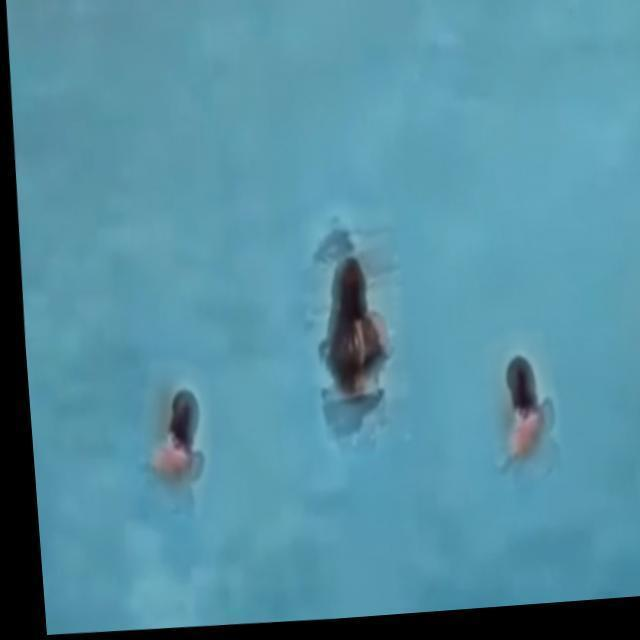swimming: (287, 234, 400, 456), (478, 338, 591, 526), (137, 359, 248, 536)
